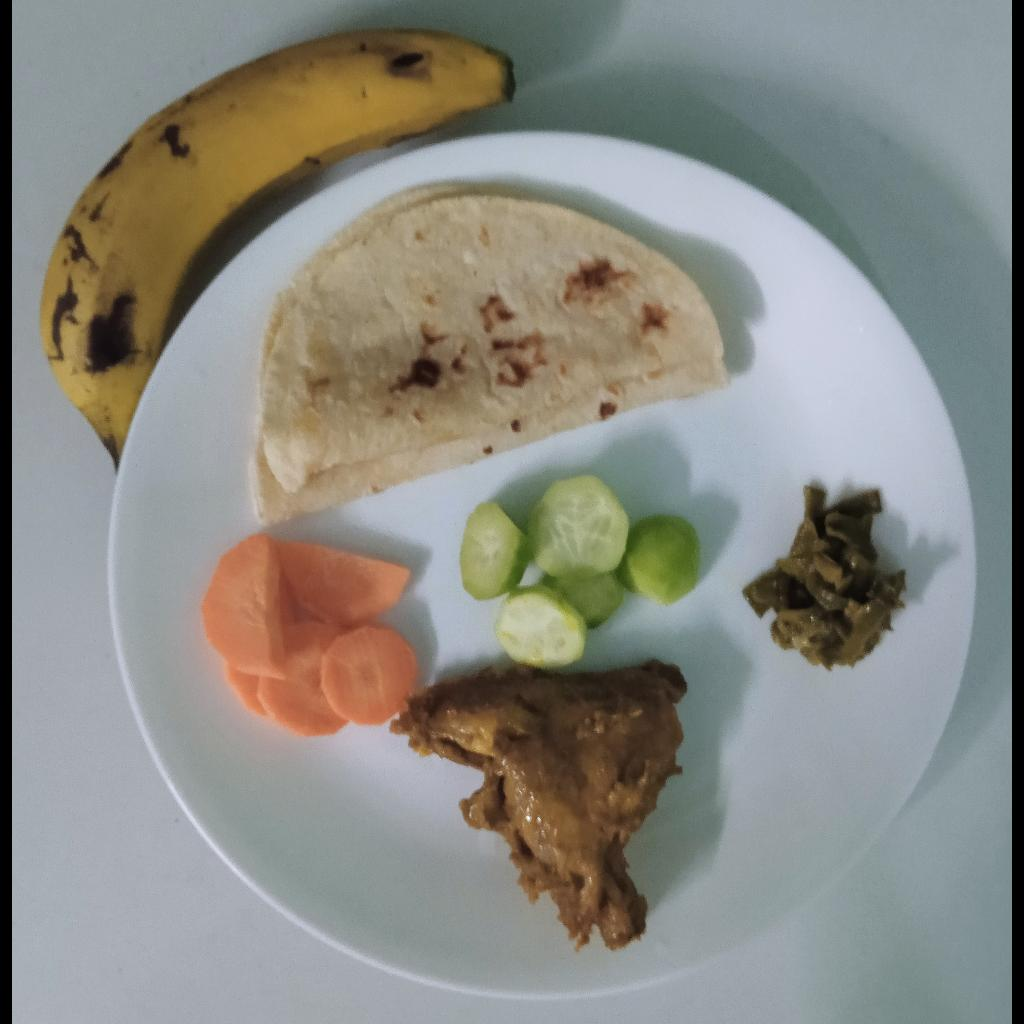banana: (39, 28, 514, 471)
carrot: (201, 534, 419, 736)
chicken: (388, 658, 689, 953)
cucumber: (459, 475, 701, 669)
ruti: (249, 184, 734, 529)
shim: (744, 486, 911, 671)
